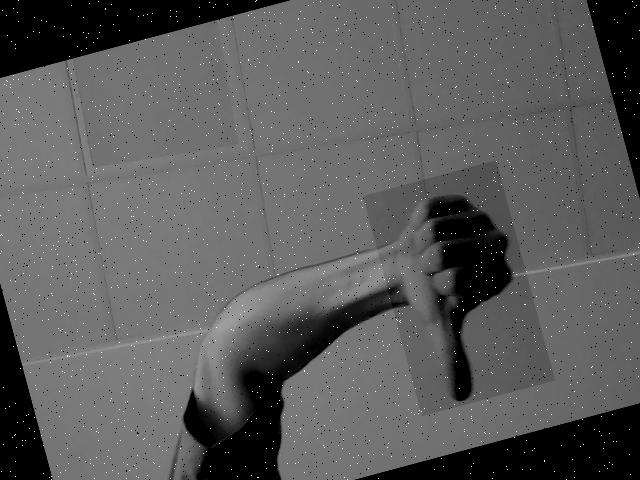bad: (363, 160, 555, 416)
